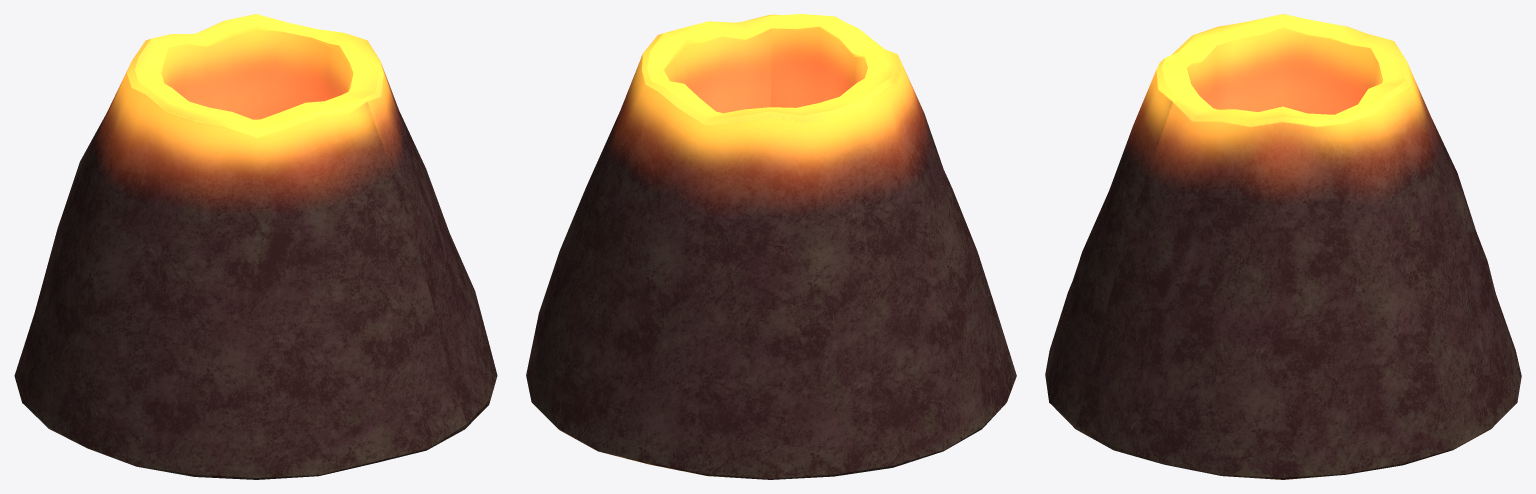
The model's file is Volcano_Textured.fbx.
3 views of the same model, side by side, from view 1: azimuth 30°, elevation 25°; view 2: azimuth 150°, elevation 25°; view 3: azimuth 270°, elevation 25° (orthographic).
Visible parts, largest first — view 1: Volcano; view 2: Volcano; view 3: Volcano.
Part boxes in pixels (box(x1,y1,x2,y2)): Volcano: box(14, 14, 497, 479); Volcano: box(526, 14, 1016, 479); Volcano: box(1045, 14, 1521, 479).
Bounding box in the file's own units: 259 × 186 × 256.
